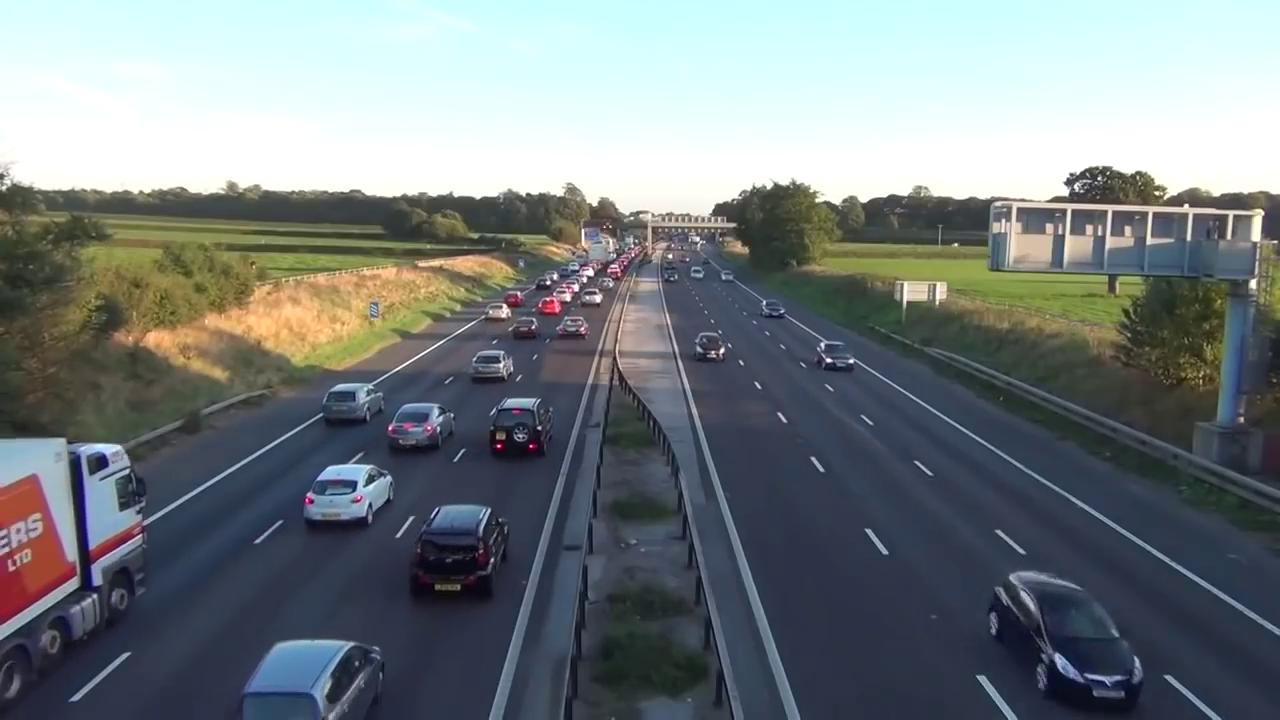car: (988, 566, 1148, 712), (237, 635, 382, 720), (406, 500, 510, 604), (305, 462, 396, 523), (489, 396, 554, 447), (384, 403, 455, 447), (321, 381, 385, 422), (468, 349, 512, 379), (816, 340, 853, 370), (692, 330, 726, 359), (555, 319, 588, 340), (514, 320, 541, 342), (485, 303, 511, 319), (537, 300, 561, 315), (761, 301, 783, 317), (581, 293, 604, 306)
truck: (0, 428, 149, 690)
